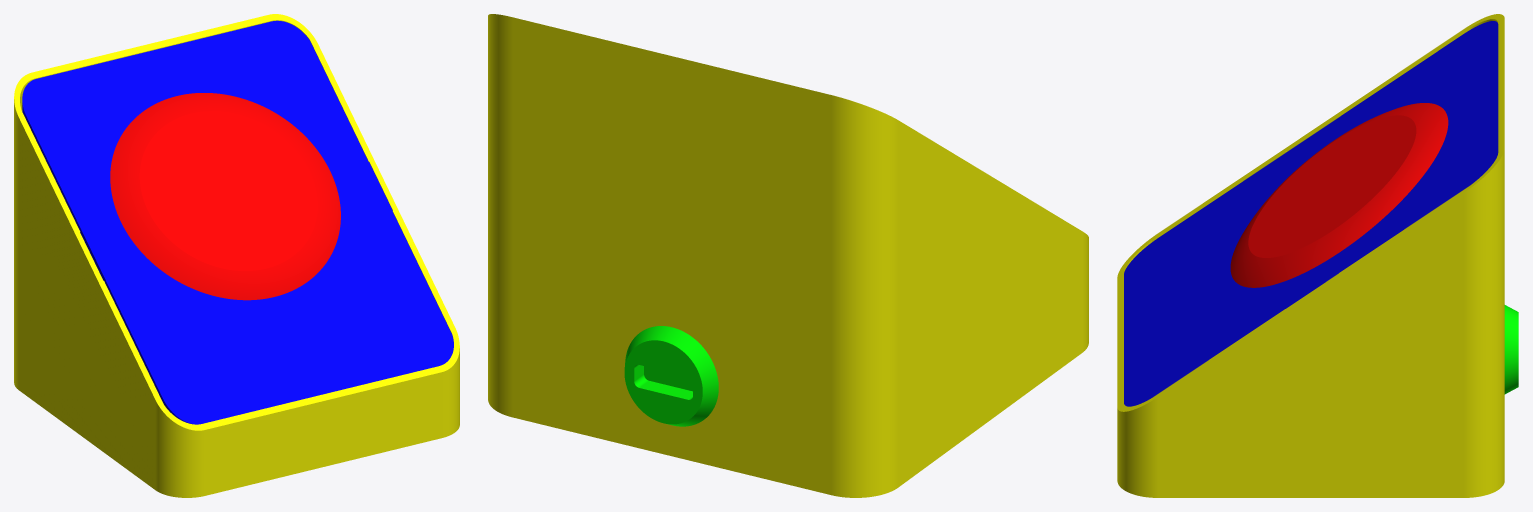
The model's file is radar_v4.glb.
3 views of the same model, side by side, from view 1: azimuth 30°, elevation 25°; view 2: azimuth 150°, elevation 25°; view 3: azimuth 270°, elevation 25° (orthographic). The views are drawn at different scales.
Parts seen in each view (by area): view 1: faceplate, body, screen; view 2: body, plug; view 3: body, faceplate, screen, plug.
Boxes of the visible parts, left/top/right/bottom form: faceplate: left=22, top=20, right=453, bottom=424; body: left=14, top=14, right=459, bottom=497; screen: left=110, top=93, right=340, bottom=300; body: left=488, top=14, right=1088, bottom=497; plug: left=624, top=326, right=718, bottom=426; body: left=1117, top=14, right=1504, bottom=497; faceplate: left=1124, top=21, right=1498, bottom=406; screen: left=1230, top=103, right=1448, bottom=287; plug: left=1504, top=305, right=1518, bottom=394.
Bounding box in the file's own units: 0.0603 × 0.0571 × 0.0625.
